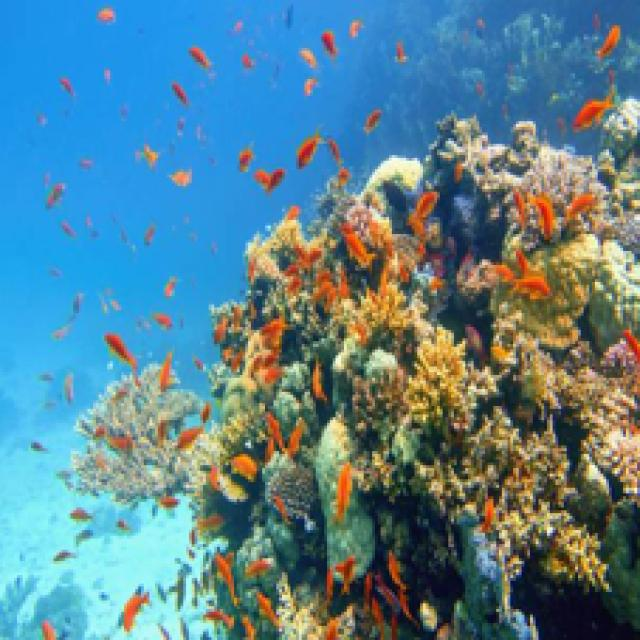Healthy: (190, 102, 638, 638), (77, 365, 204, 503)
